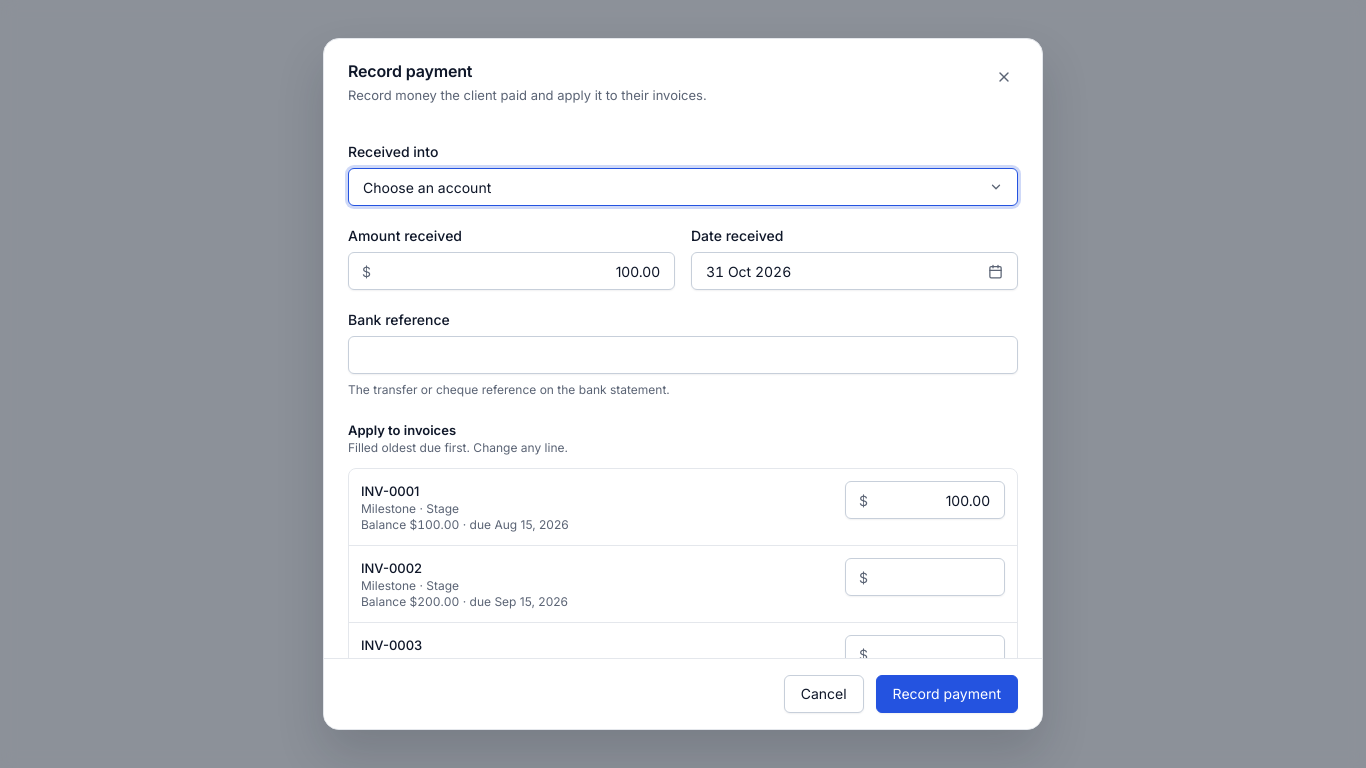
Test: RecordPaymentDialog — a Dialog that applies a receipt oldest due first › asks for the account in words instead of a disabled button
Step 1. Click the button "Record payment" → [947, 694], box [876, 675, 1018, 713]
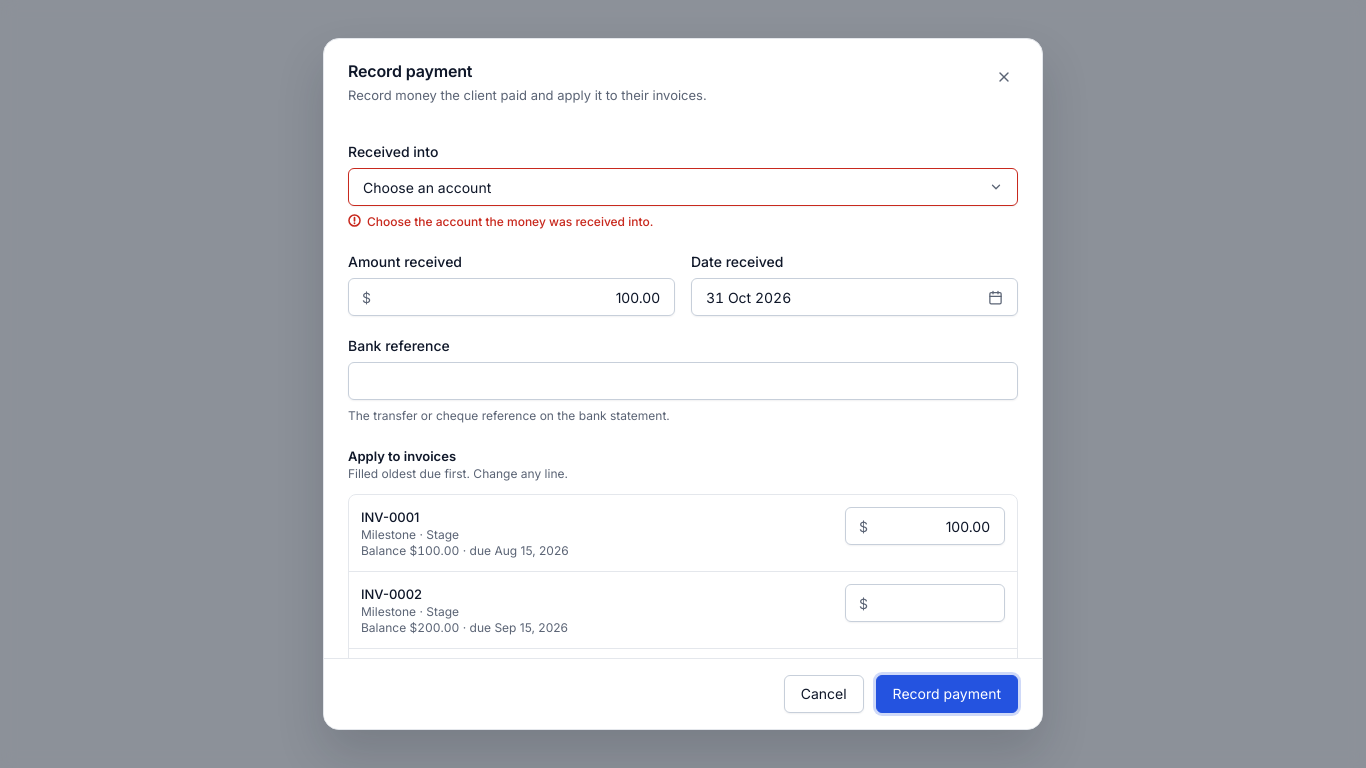
Expected: the text "Choose the account the money was received into." is shown, [348, 214, 653, 229]
